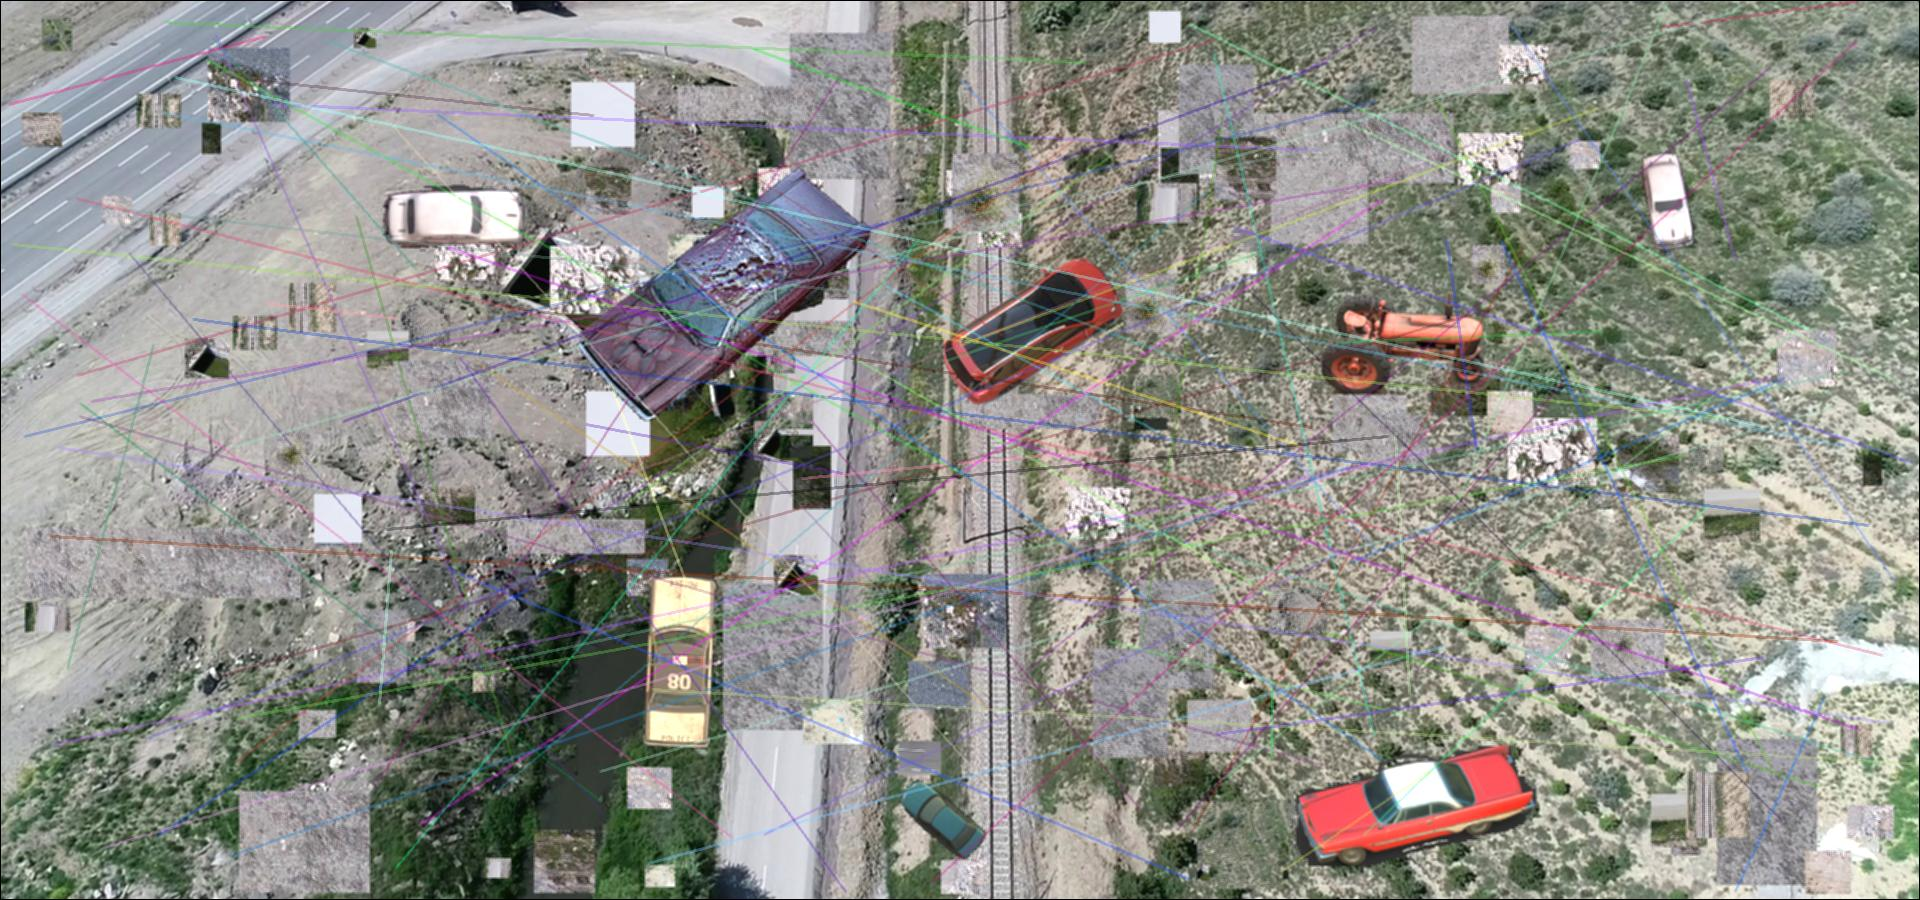arac: (579, 160, 874, 421), (1296, 746, 1536, 866), (944, 255, 1125, 407), (1322, 291, 1496, 394), (636, 574, 722, 749), (377, 184, 531, 252), (898, 778, 986, 860), (1635, 149, 1702, 252)
